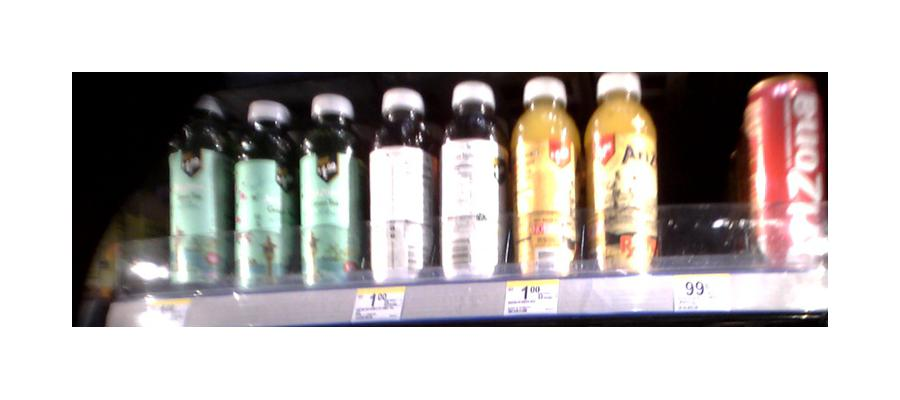bottle: (745, 69, 822, 272), (434, 82, 507, 284), (586, 72, 659, 274), (512, 74, 579, 277), (365, 91, 432, 284), (165, 98, 229, 295), (297, 96, 360, 287), (231, 103, 293, 291)
